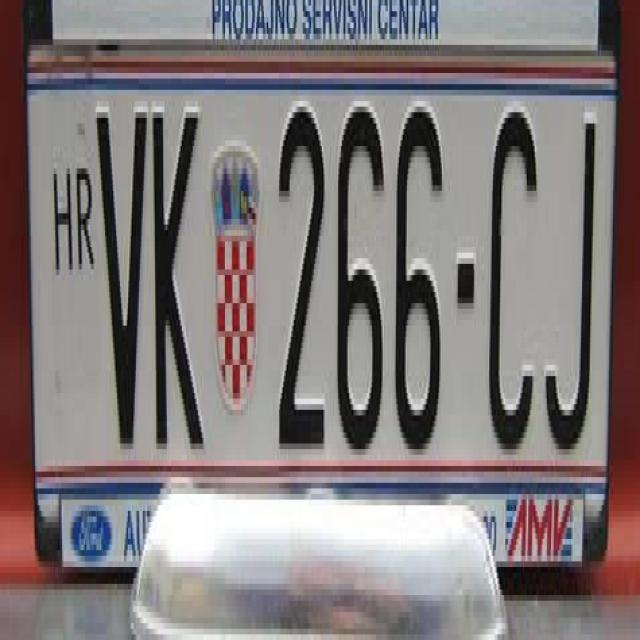Autre: (24, 36, 612, 572)
